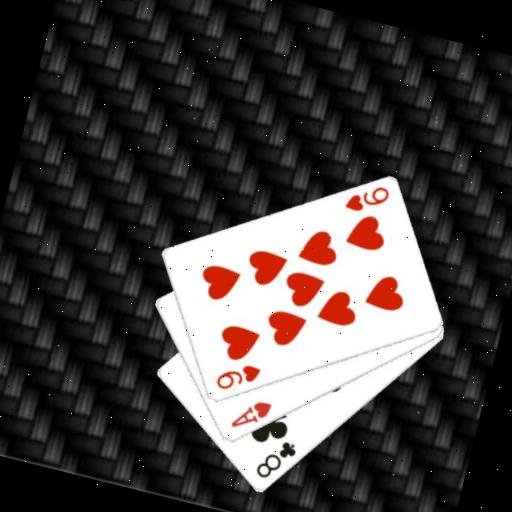8C: (251, 433, 301, 487)
9H: (211, 355, 264, 400), (340, 176, 393, 221)
AH: (227, 392, 275, 438)
